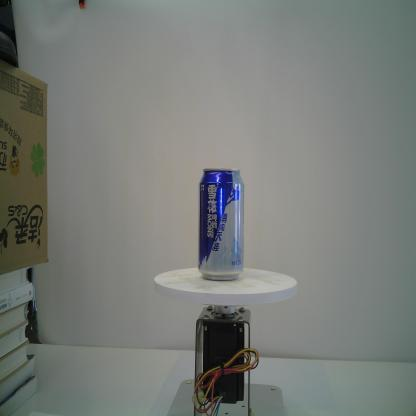Alcohol: (198, 167, 244, 282)
